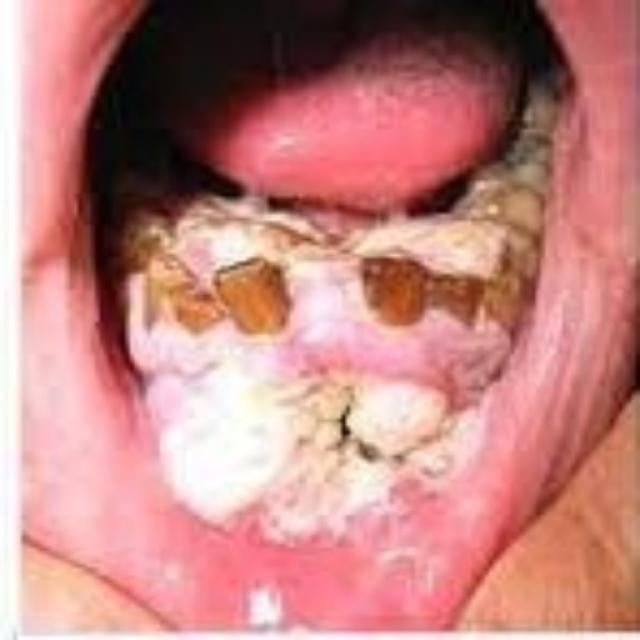cancer-detection: (134, 326, 504, 552)
processing_area: (104, 30, 521, 636)
